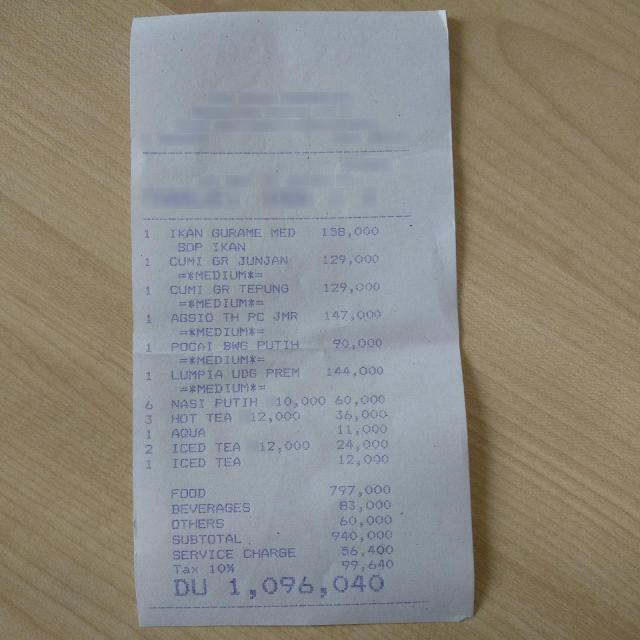kertas: (124, 8, 475, 629)
